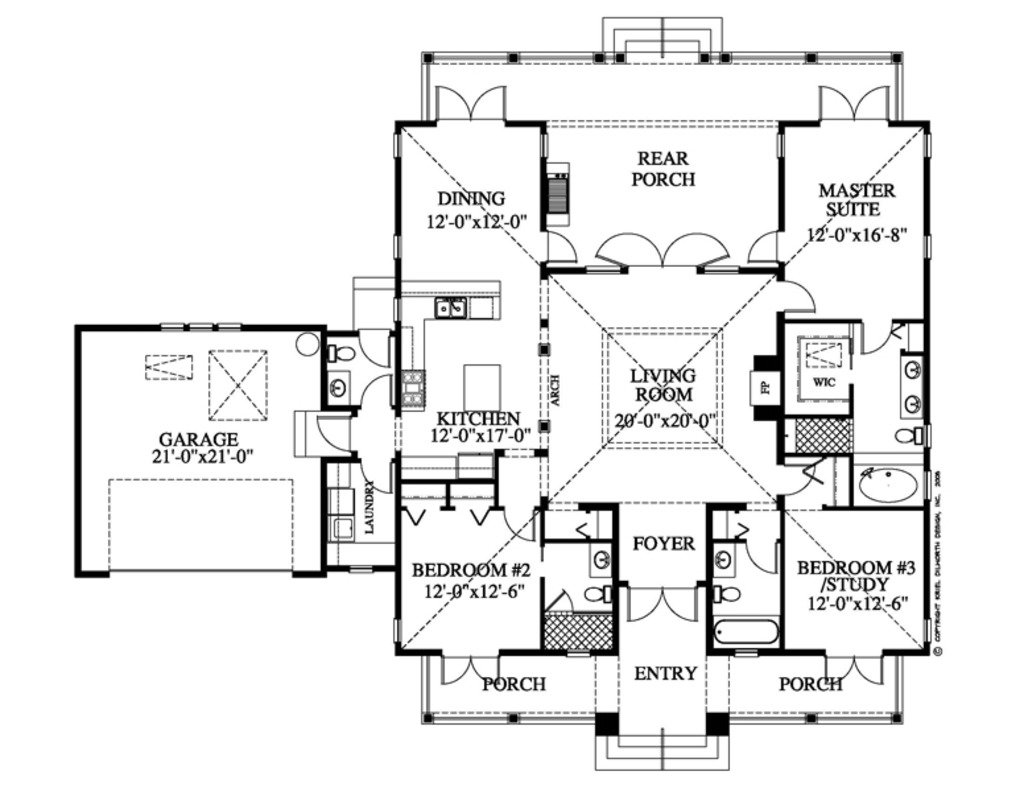door: (592, 230, 730, 277), (621, 587, 701, 625), (433, 84, 507, 124), (816, 86, 891, 124), (820, 649, 887, 685), (436, 652, 503, 684), (309, 413, 355, 457), (500, 502, 545, 541), (773, 278, 817, 315), (542, 225, 580, 265), (746, 226, 784, 266), (354, 328, 394, 365), (359, 371, 393, 414), (741, 535, 779, 573), (357, 454, 393, 494), (778, 463, 818, 498), (857, 323, 895, 355)
large_sink: (889, 423, 927, 452), (324, 339, 360, 369), (578, 578, 616, 604), (712, 579, 741, 610)
small_sink: (899, 352, 925, 420), (321, 364, 351, 404), (710, 542, 737, 581), (589, 545, 614, 575)
stairs: (595, 12, 727, 68), (595, 728, 736, 774)
tub: (854, 463, 929, 507), (709, 616, 786, 650)
twin_sink: (433, 294, 467, 317)
windows: (153, 321, 243, 335), (919, 230, 934, 260)
